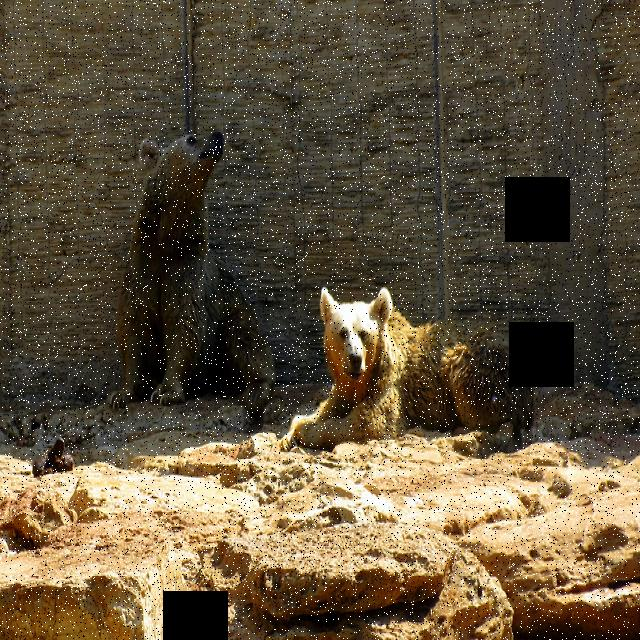Bear: (98, 122, 282, 425), (307, 278, 534, 437)
